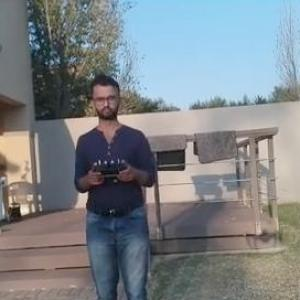follow: (72, 67, 166, 299)
